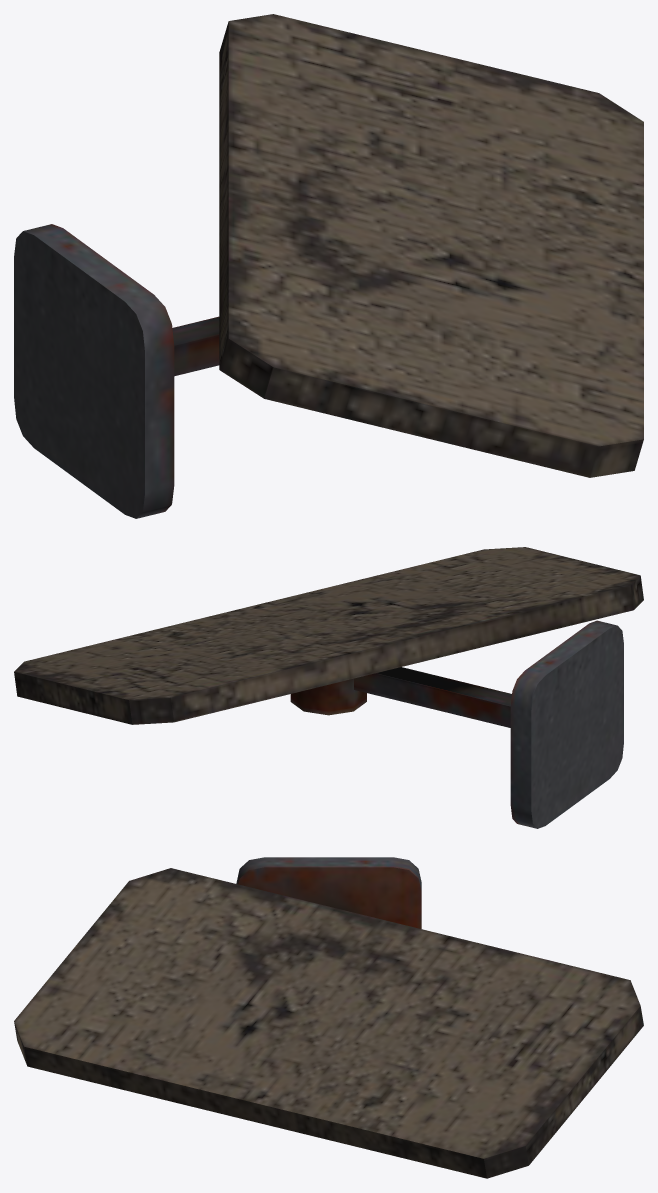
File: TV_Stand(Office).FBX
3 renders of one model, top to bottom at view 1: azimuth 30°, elevation 25°; view 2: azimuth 150°, elevation 25°; view 3: azimuth 270°, elevation 25°, orthographic. The views are drawn at different scales.
Parts seen in each view (by area): view 1: TV_Stand(Office); view 2: TV_Stand(Office); view 3: TV_Stand(Office).
Part boxes in pixels (x1,y1,x2,y2): TV_Stand(Office): (14, 14, 643, 518); TV_Stand(Office): (14, 547, 643, 828); TV_Stand(Office): (14, 857, 643, 1178).
Size of the model in its own units: 83.94 by 25.7 by 96.18.
